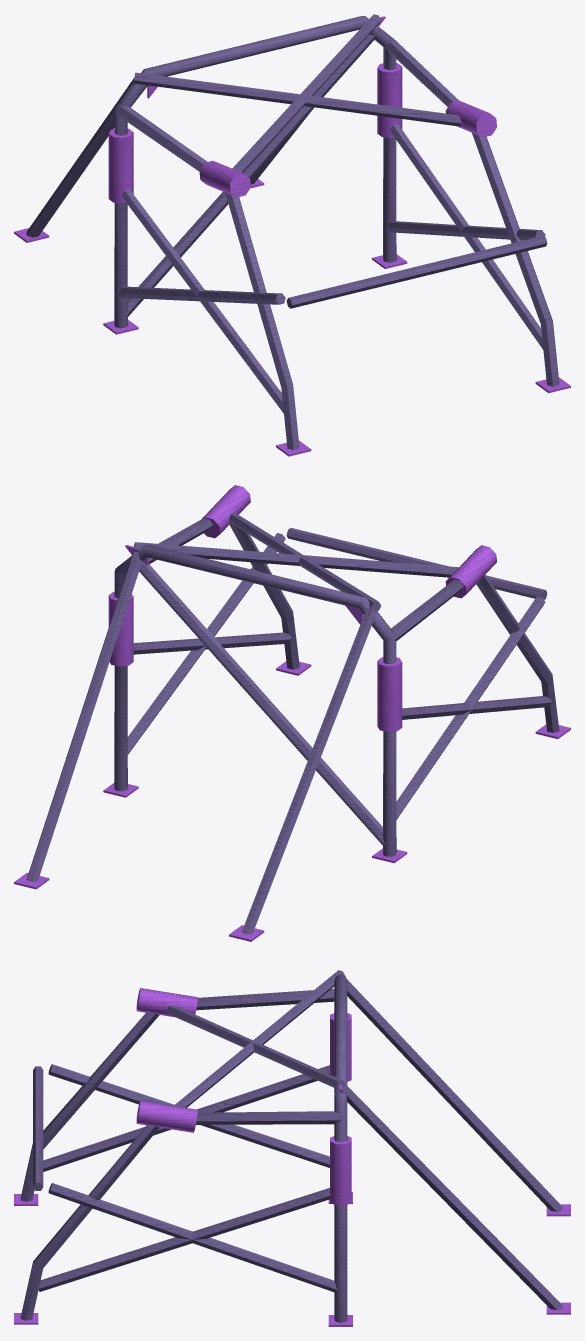
File: gaiola_n5.glb
3 renders of one model, top to bottom at view 1: azimuth 30°, elevation 25°; view 2: azimuth 150°, elevation 25°; view 3: azimuth 270°, elevation 25°, orthographic. The views are drawn at different scales.
Parts seen in each view (by area): view 1: gaiola_n5; view 2: gaiola_n5; view 3: gaiola_n5.
Boxes of the visible parts, x1,y1,x2,y2 form: gaiola_n5: (14,14,570,456); gaiola_n5: (14,485,570,941); gaiola_n5: (14,970,570,1326).
Size of the model in its own units: 1.3 by 1.09 by 2.3.
Materials: 1 (1 with a texture image).
